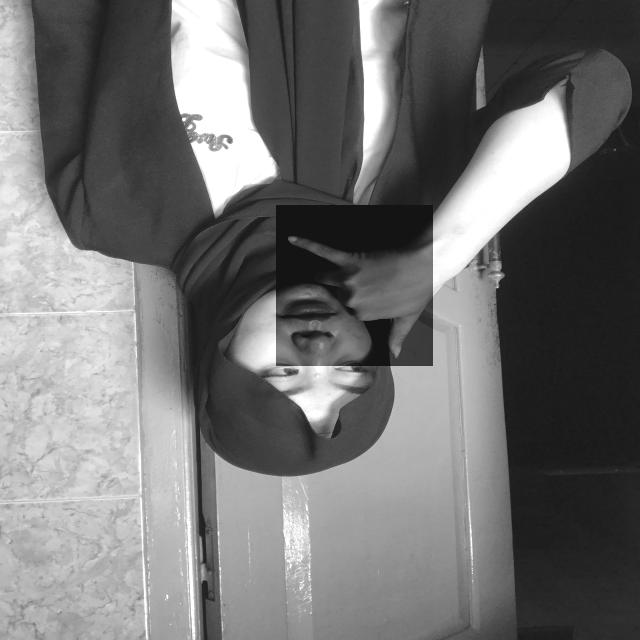telpon: (276, 205, 433, 366)
